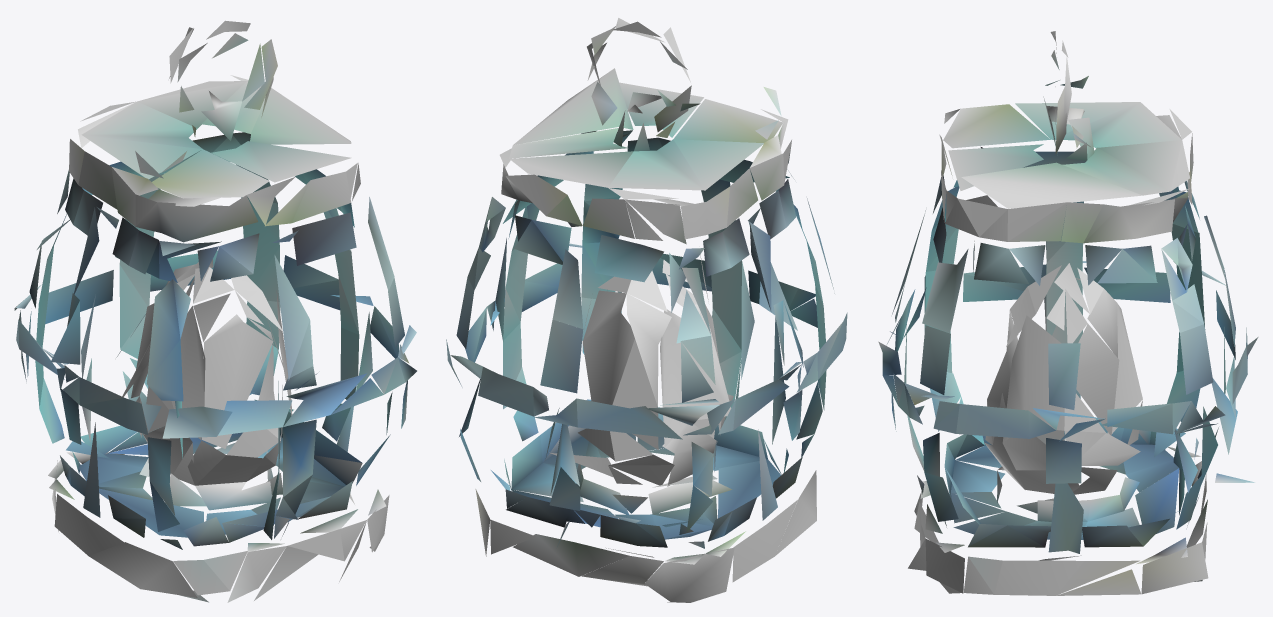
Rendered from lantern.glb.
3 views of the same model, side by side, from view 1: azimuth 30°, elevation 25°; view 2: azimuth 150°, elevation 25°; view 3: azimuth 270°, elevation 25° (orthographic).
Visible parts, largest first — view 1: Mesh_0; view 2: Mesh_0; view 3: Mesh_0.
Part boxes in pixels (left/top/right/bottom): Mesh_0: left=14, top=20, right=416, bottom=602; Mesh_0: left=446, top=18, right=847, bottom=602; Mesh_0: left=878, top=31, right=1258, bottom=595.
Bounding box in the file's own units: 0.1292 × 0.2002 × 0.1327.
